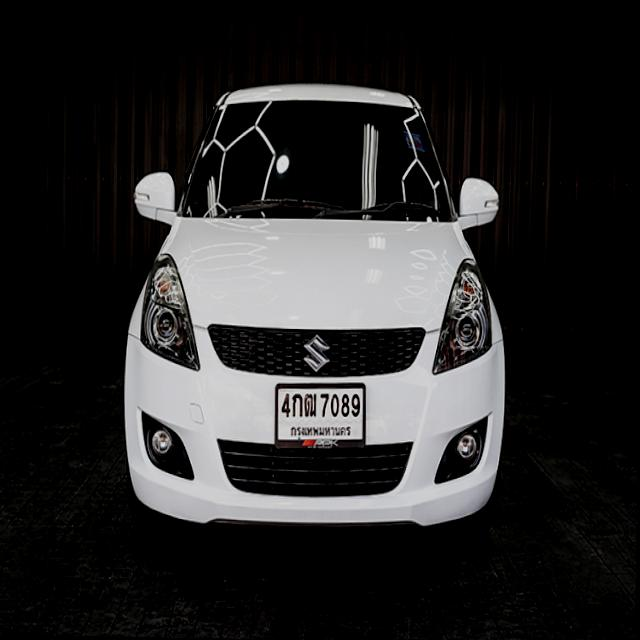license_plate: (272, 381, 367, 452)
